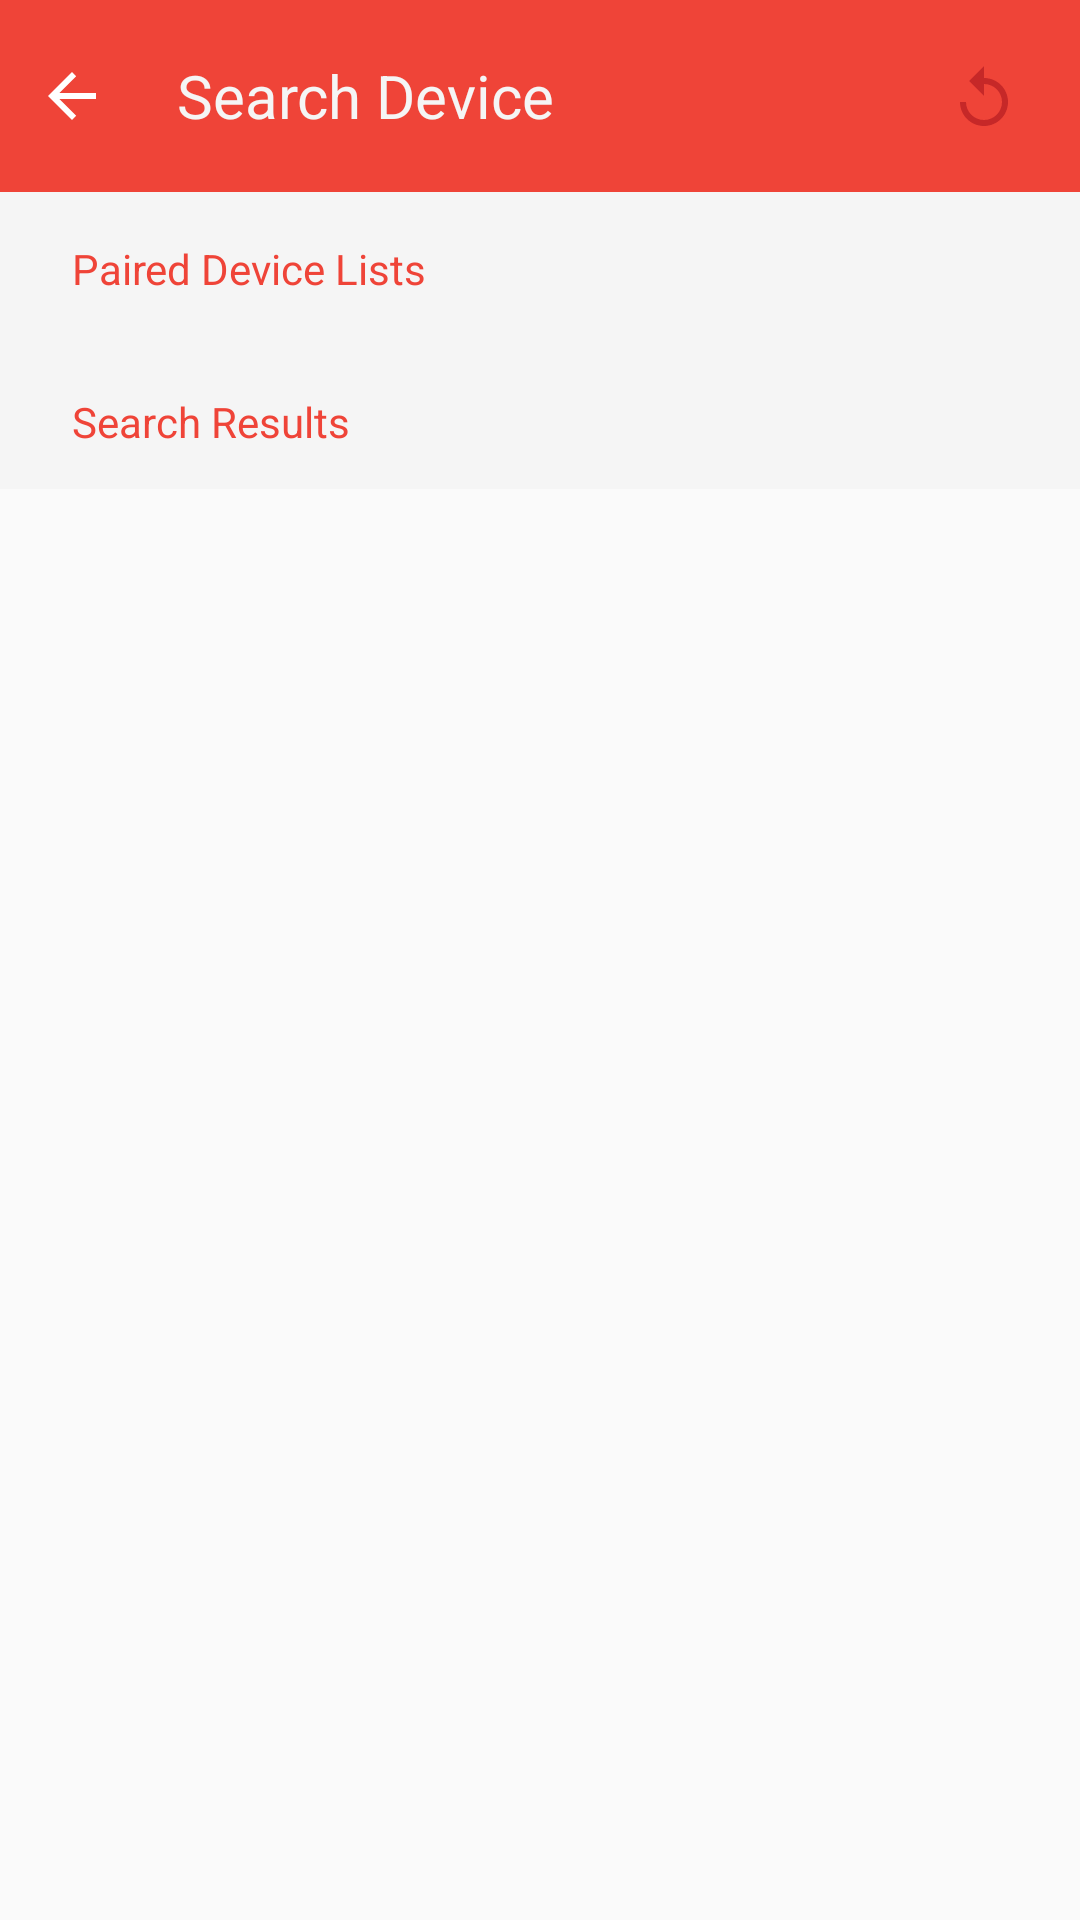

Named icons in this screenshot (1080x1920) and their centers, (x,y):
back: (72,96)
reload: (984,96)
